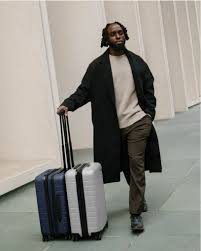suitcase: (63, 108, 108, 238), (35, 107, 70, 242)
